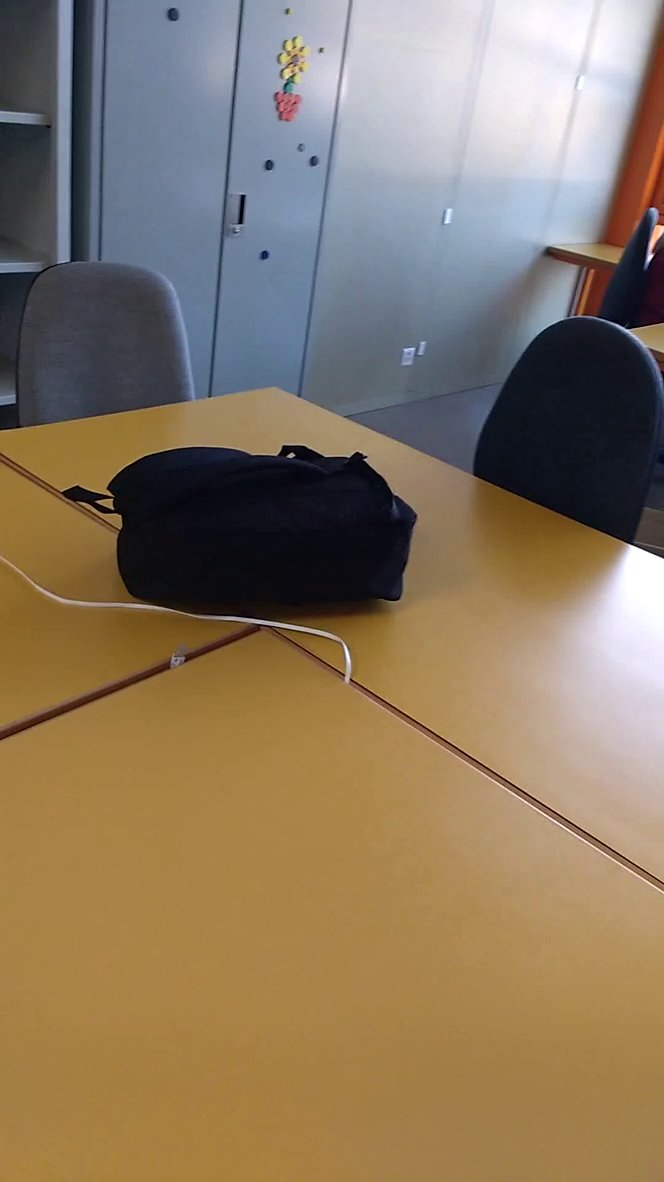bag: (56, 433, 428, 626)
chair: (457, 296, 664, 562), (3, 247, 218, 440)
